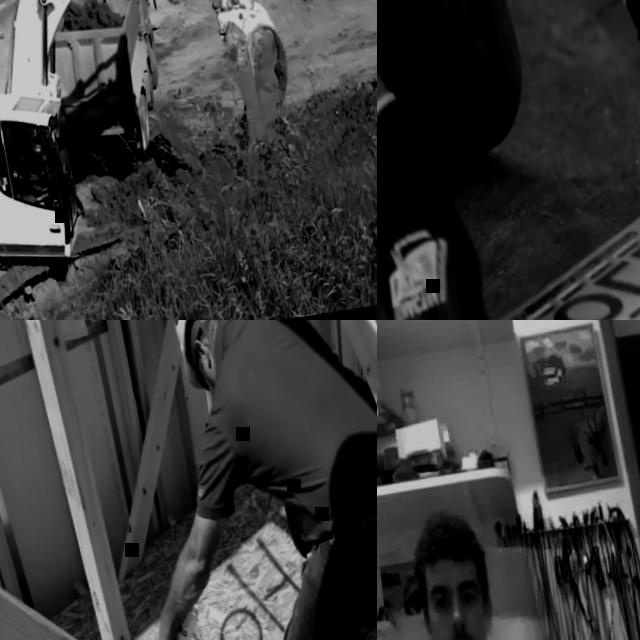Hardhat: (165, 320, 239, 392)
NO-Hardhat: (412, 512, 482, 575)
NO-Safety Vest: (201, 320, 377, 550), (12, 150, 28, 176)
Person: (103, 320, 377, 640), (377, 0, 640, 320), (377, 496, 615, 640), (6, 134, 43, 196)
Safety Cone: (407, 531, 611, 640)
machinery: (0, 0, 320, 320), (38, 0, 177, 170)
